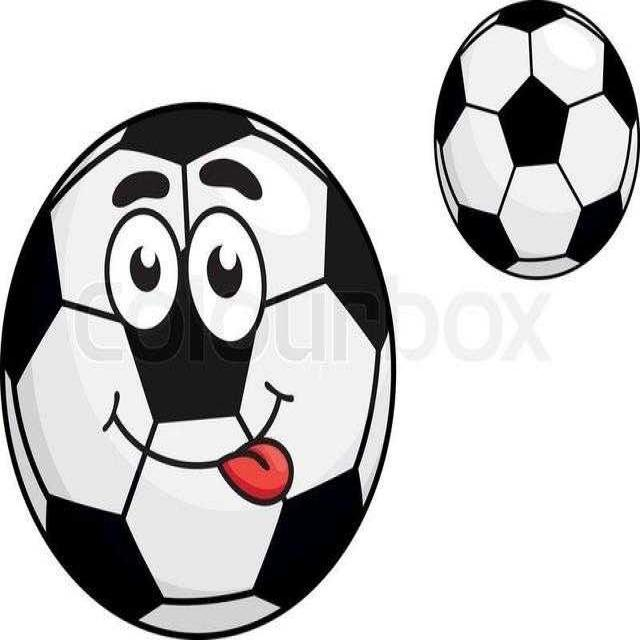ball: (0, 100, 395, 640), (434, 0, 640, 280)
